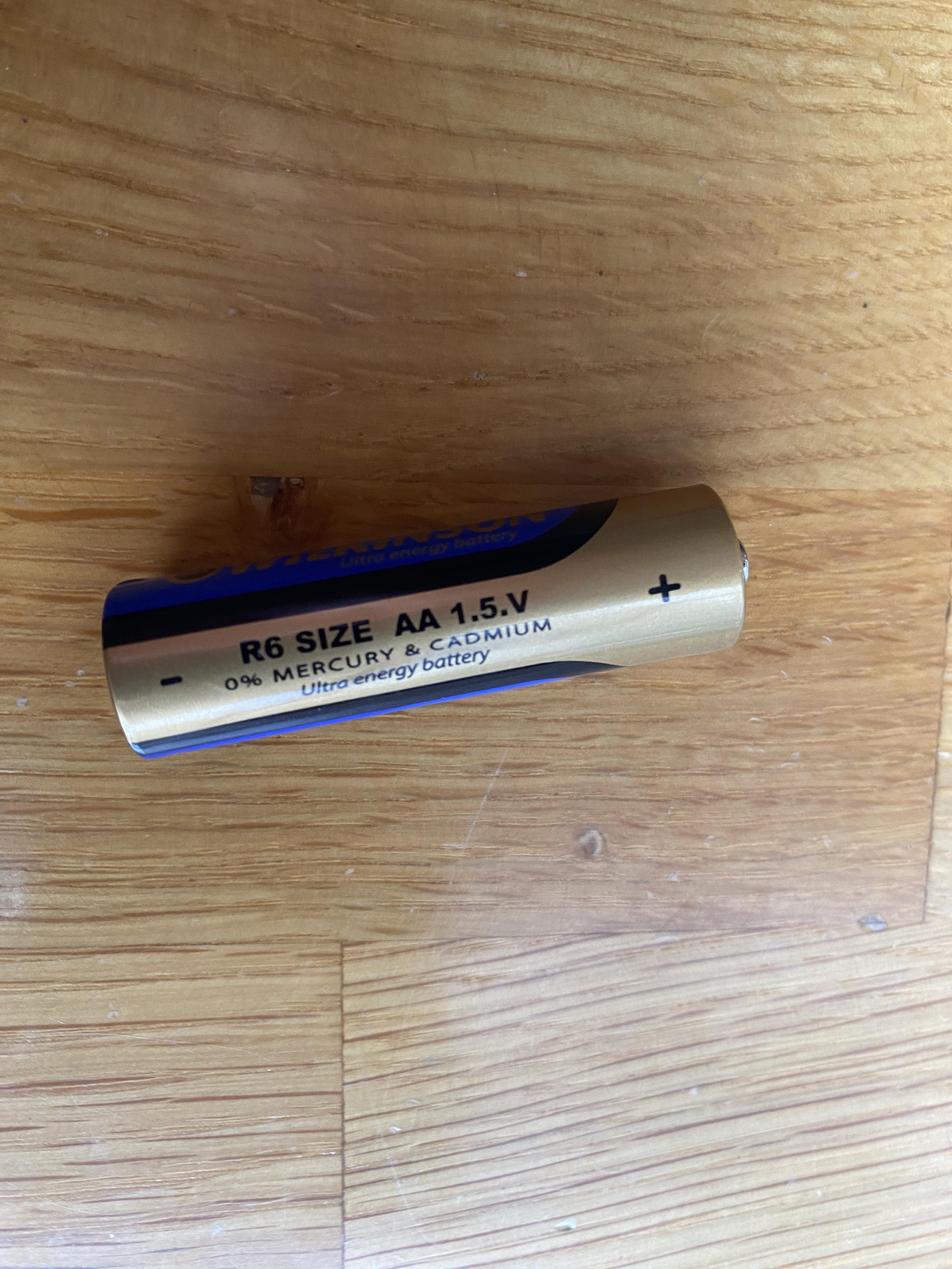AA: (94, 477, 758, 767)
